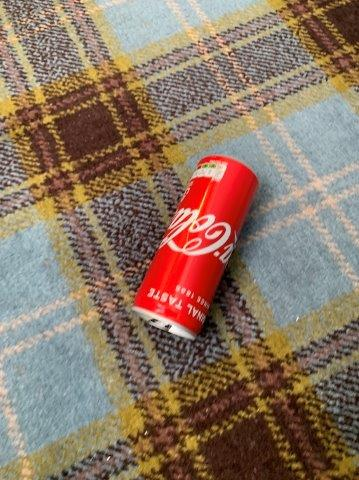kaleng: (134, 156, 258, 340)
